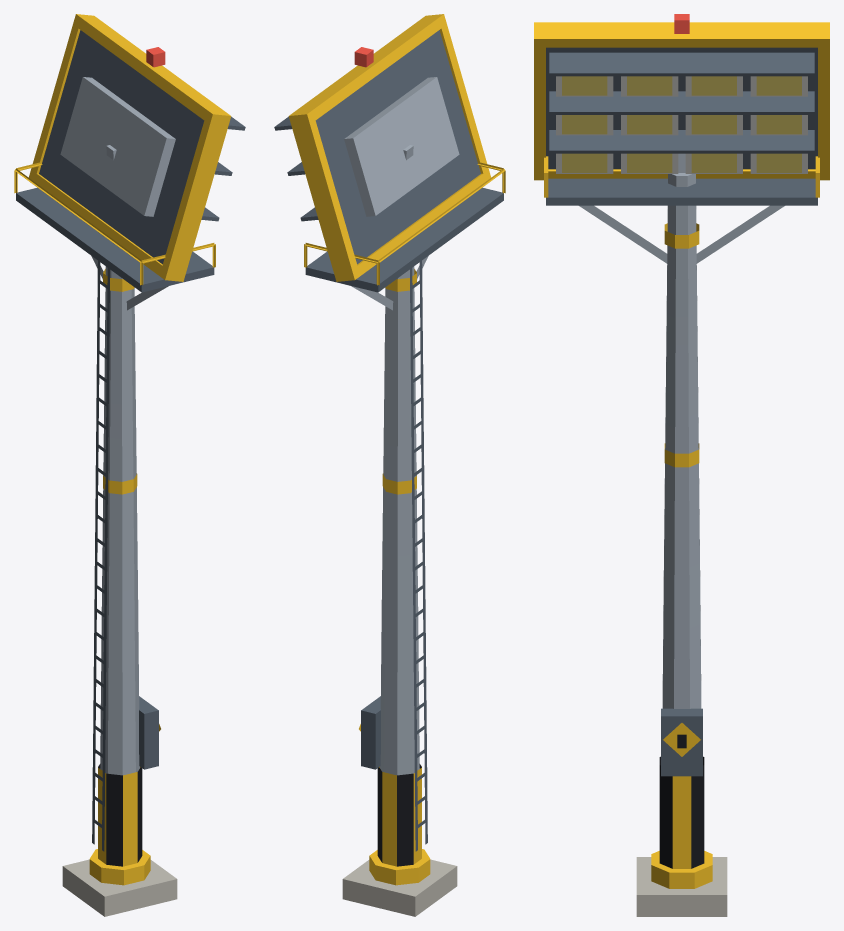
File: stadium_light.glb
3 renders of one model, left to right at view 1: azimuth 30°, elevation 25°; view 2: azimuth 150°, elevation 25°; view 3: azimuth 270°, elevation 25°, orthographic. The views are drawn at different scales.
Visible parts, largest first — view 1: Body; view 2: Body; view 3: Body.
Part boxes in pixels (x1,y1,x2,y2): Body: [14, 14, 245, 916]; Body: [274, 14, 505, 916]; Body: [534, 14, 829, 916].
Size of the model in its own units: 0.4422 by 3.29 by 0.98.
